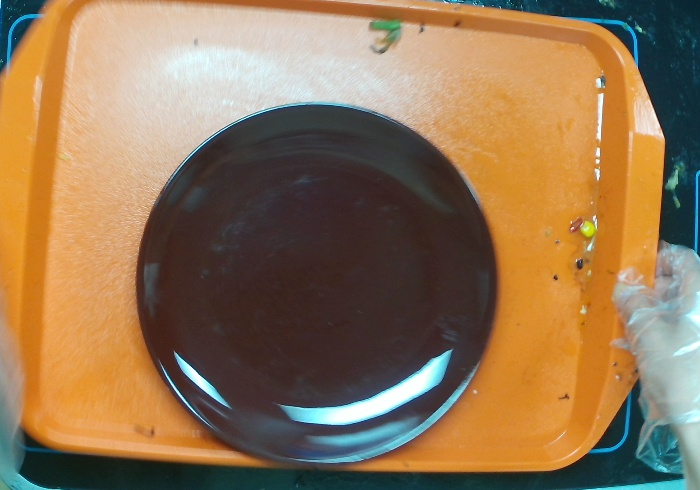HZYJPL-Ka_Fei_Yuan_Pan: (124, 93, 505, 479)
